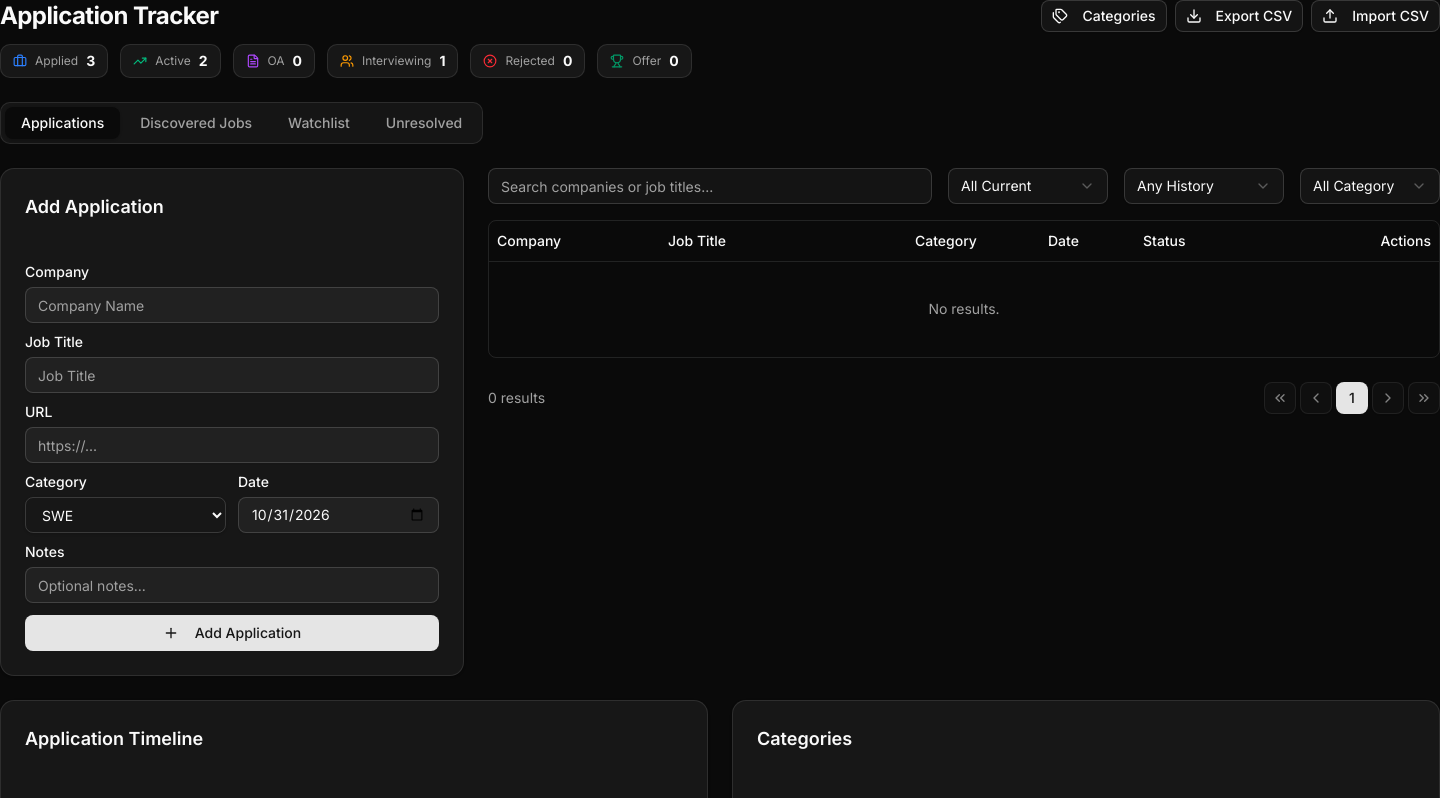
it: selected legacy bucket and filters survive switching away from Discovered Jobs
Click the button "Discovered Jobs": click(196, 123) left=124, top=107, right=268, bottom=139
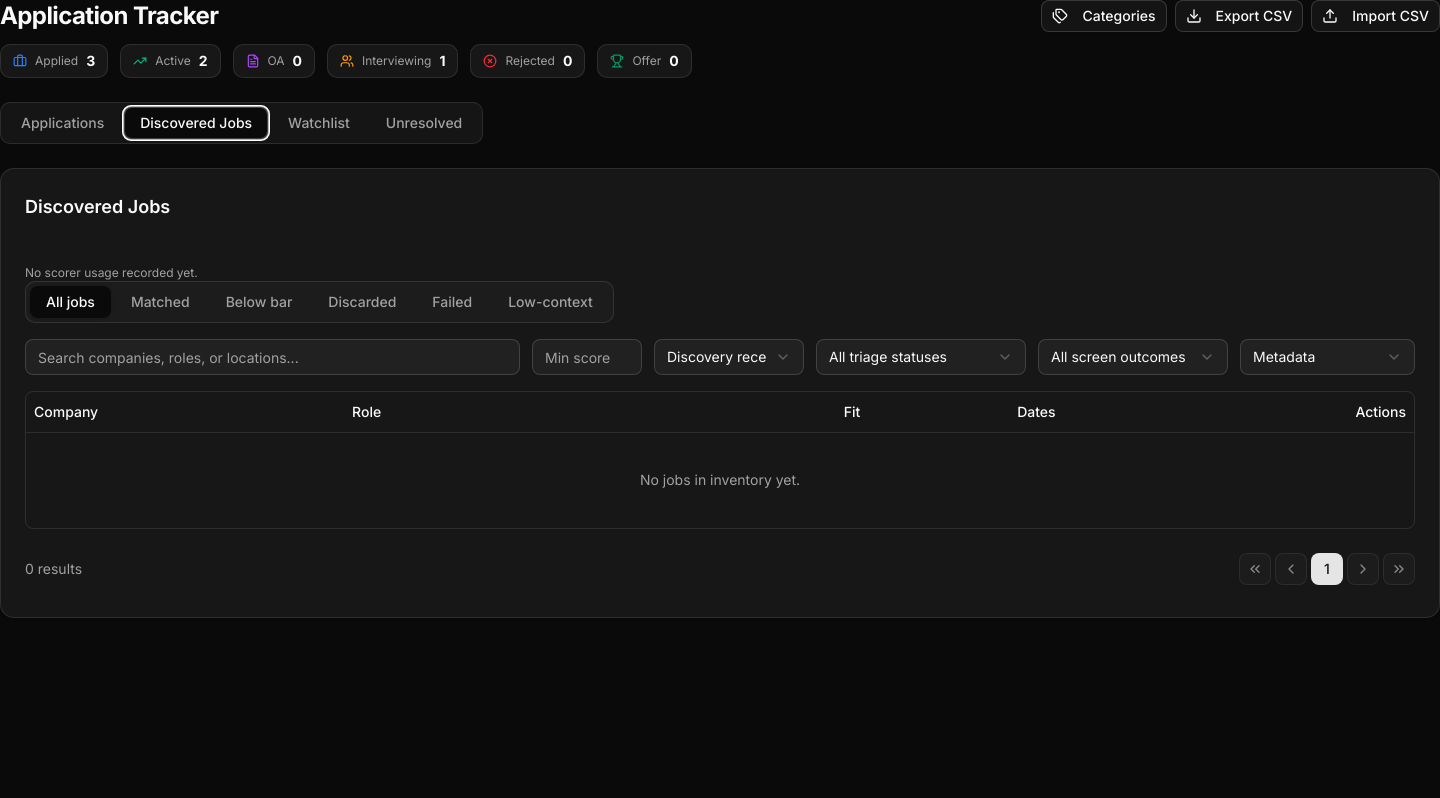
Click the button "Discarded": click(362, 302) left=312, top=286, right=412, bottom=318
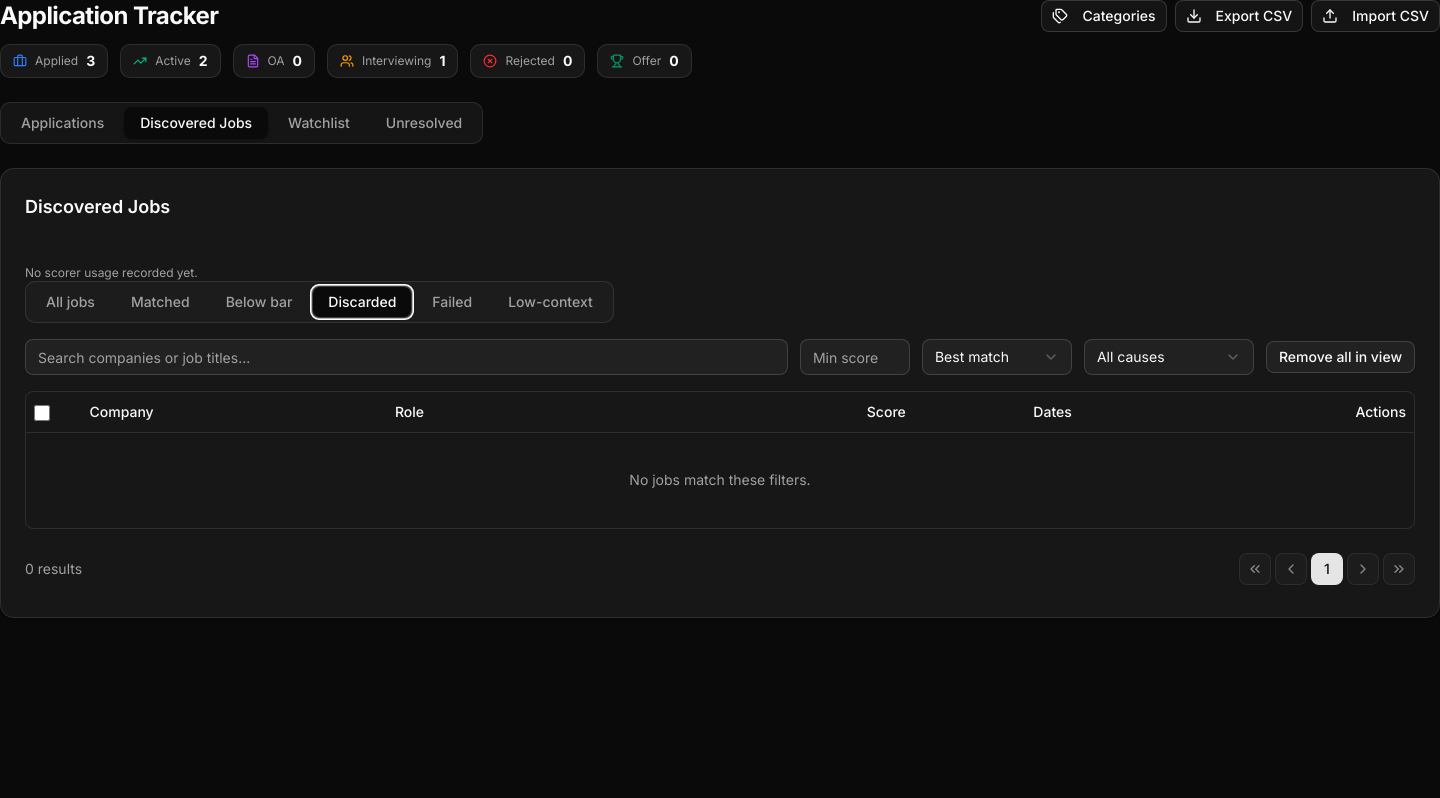
In the field with placeholder "Search companies or job titles...": (406, 357) left=25, top=339, right=788, bottom=375, type "kept selection"
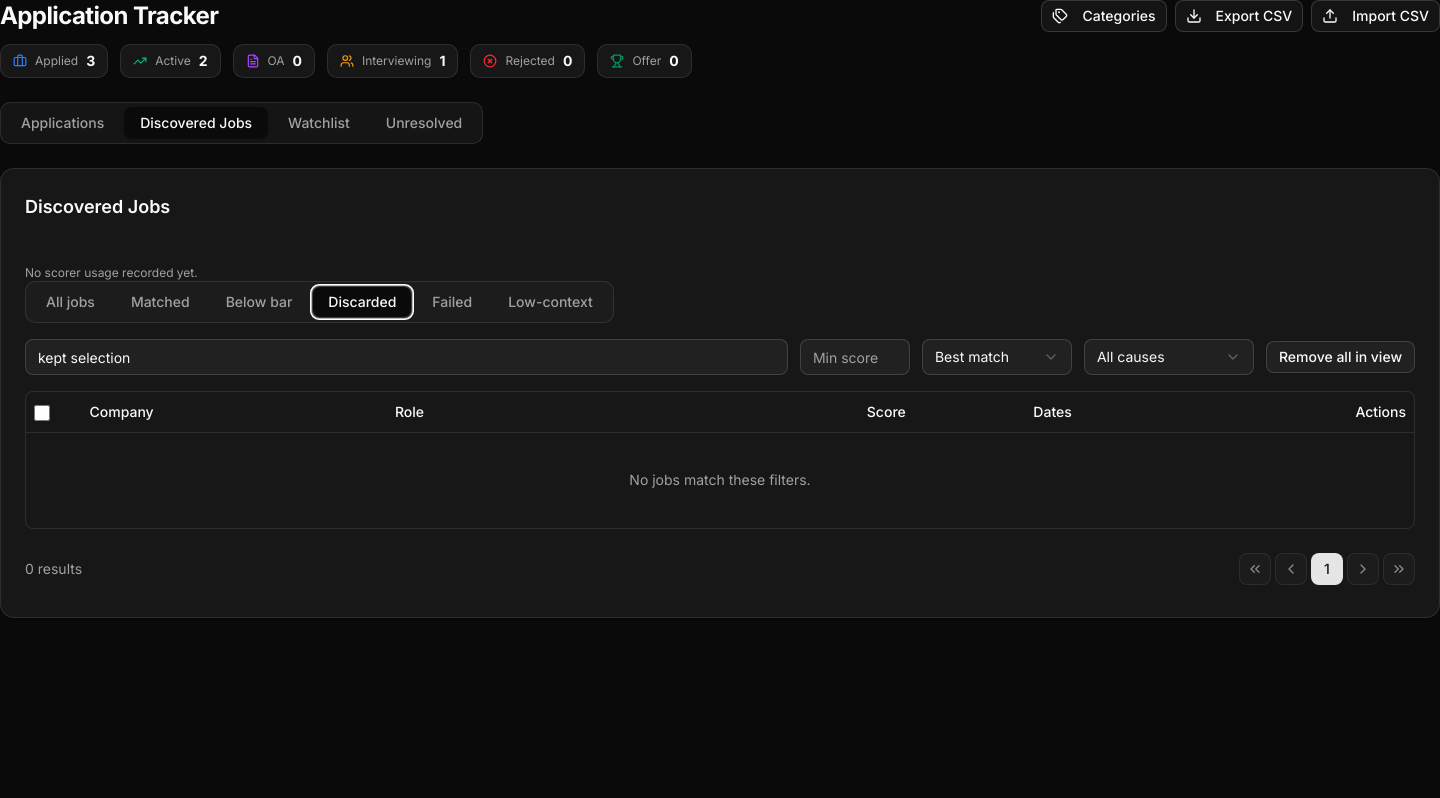
Click the button "Applications": click(63, 123) left=5, top=107, right=120, bottom=139
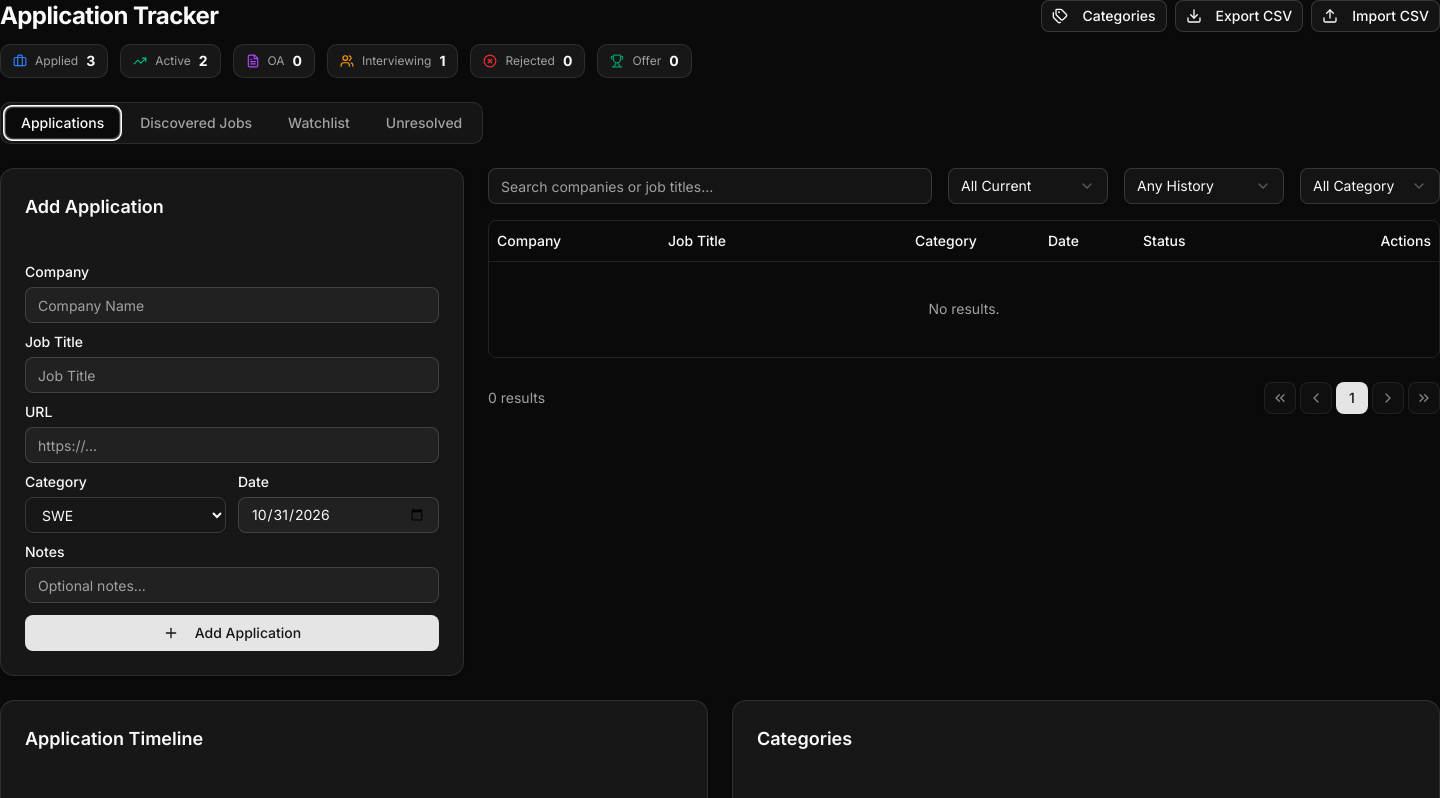
Click the button "Discovered Jobs": click(196, 123) left=124, top=107, right=268, bottom=139
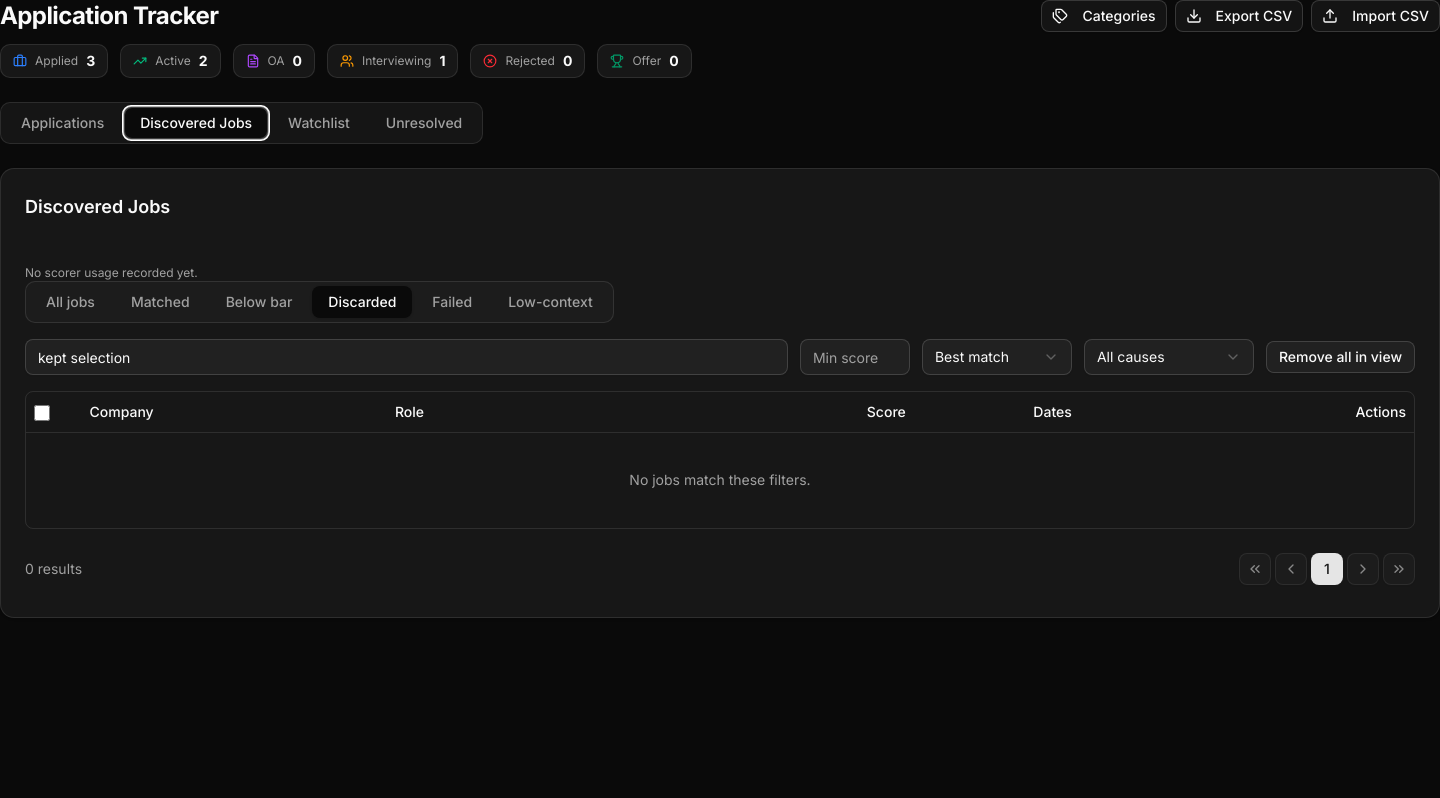
Expected: the field with placeholder "Search companies or job titles..." holds "kept selection", left=25, top=339, right=788, bottom=375
